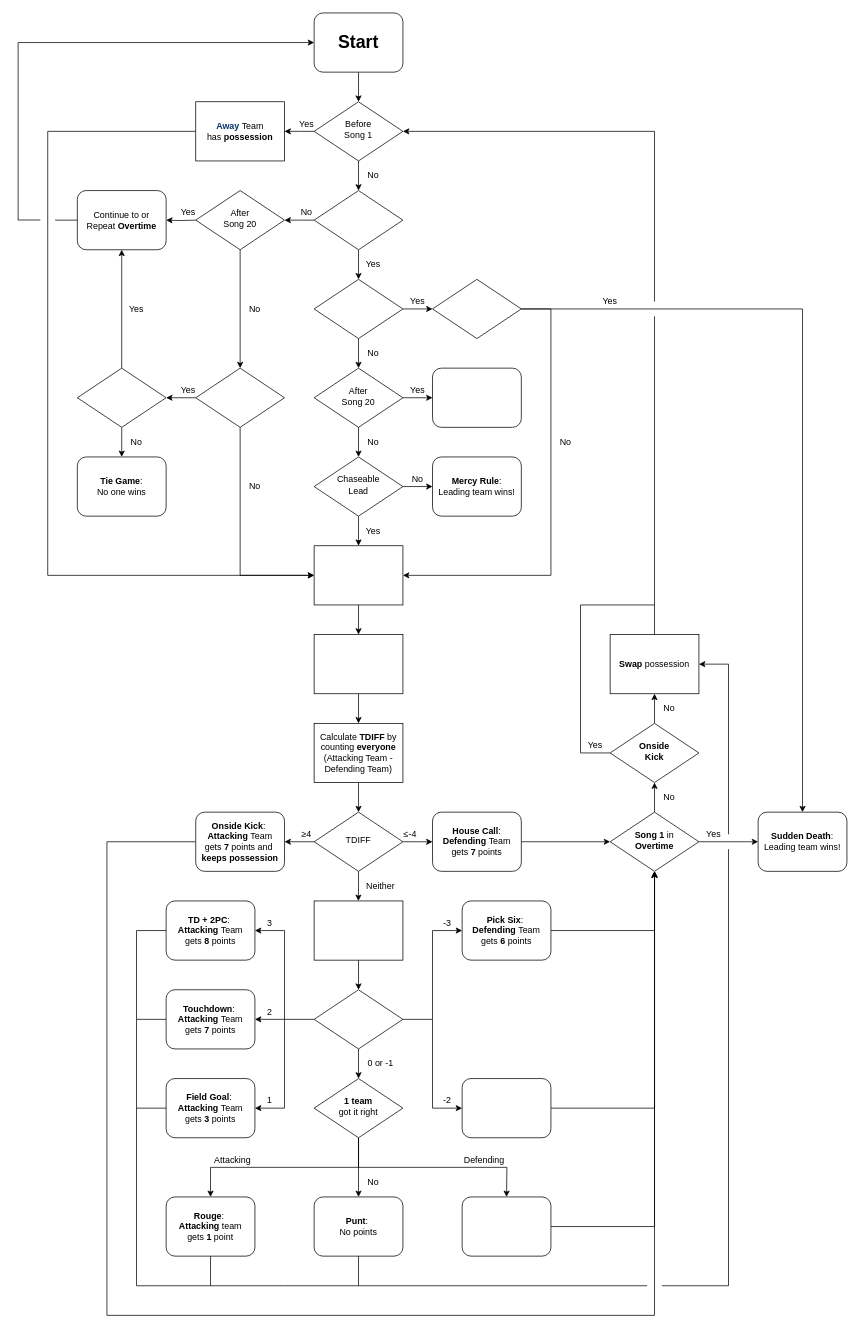
Some shapes in this 860 by 1334 pixel diagram are drawn without their labels. Each missing label, with the box of its shape:
After Song 2+: (432, 279, 521, 339)
After Song 5 in Overtime: (195, 367, 285, 427)
Calculate DIFF (Attacking OPs - Defending DPs): (313, 900, 403, 960)
Captain 's guesses count double for TDIFF and DIFF: (313, 634, 403, 694)
Check which team has possession . This team is the Attacking Team: (313, 545, 403, 605)
DIFF: (313, 989, 403, 1049)
Game Over : Leading team wins!: (432, 367, 521, 427)
Knockout Game: (77, 367, 166, 427)
One team leading: (313, 190, 403, 250)
Overtime: (313, 279, 403, 339)
Rouge : Defending Team gets 1 point: (461, 1196, 551, 1256)
Safety : Defending Team gets 2 points: (461, 1078, 551, 1138)
